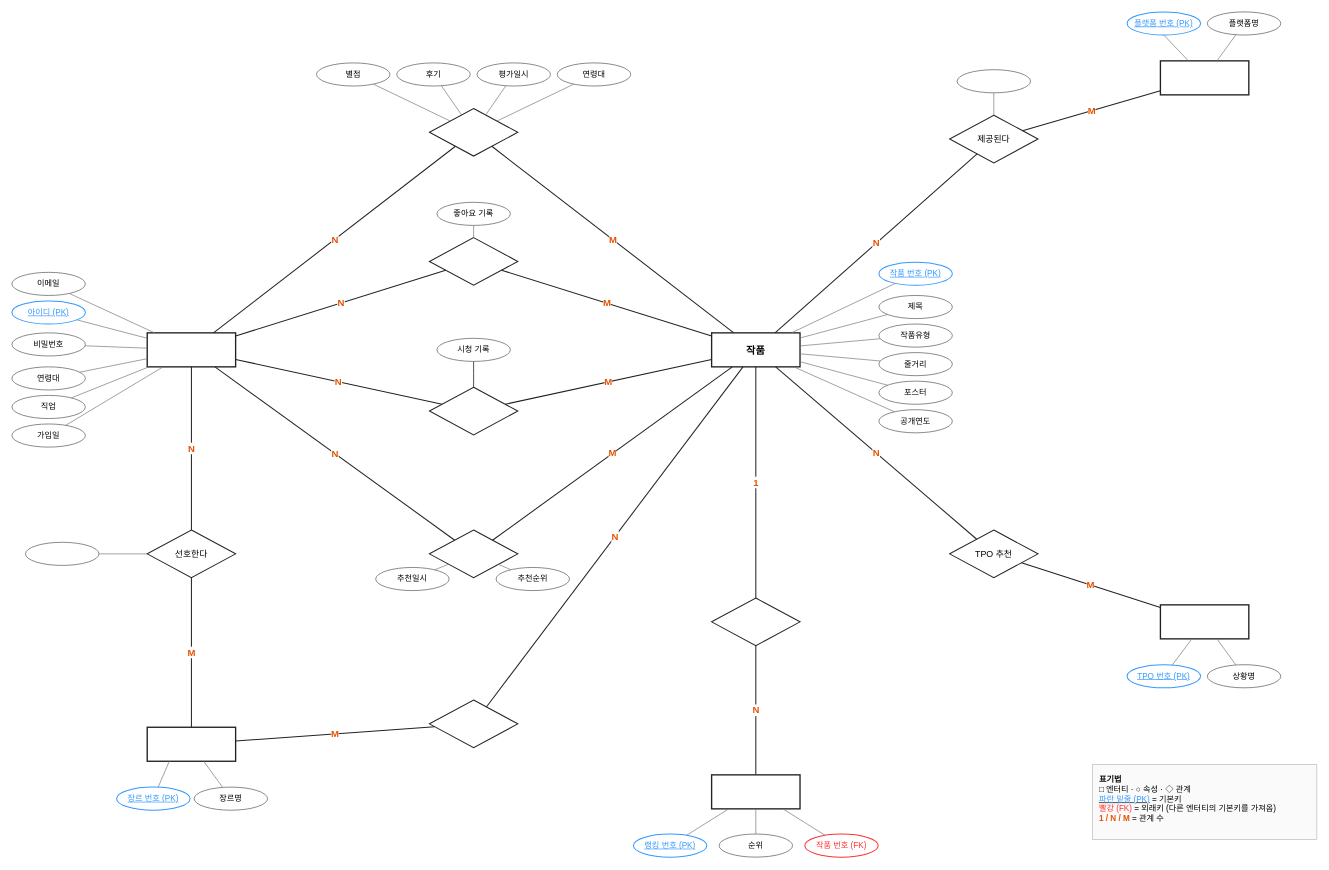
Image size: 1329x870. Some labels were removed from this diagram. Here are the shapes that lost their labels. From the top down, the centre of each, then its label:
the point at 993,81: 딥링크주소
the point at 1204,77: OTT
the point at 473,132: 평가한다
the point at 473,261: 좋아요
the point at 191,349: 회원
the point at 473,410: 시청한다
the point at 62,553: 취향구분
the point at 473,553: ai에게 추천 받는다
the point at 755,621: 집계된다
the point at 1204,621: TPO
the point at 473,723: 속한다
the point at 191,744: 장르
the point at 755,791: 랭킹
